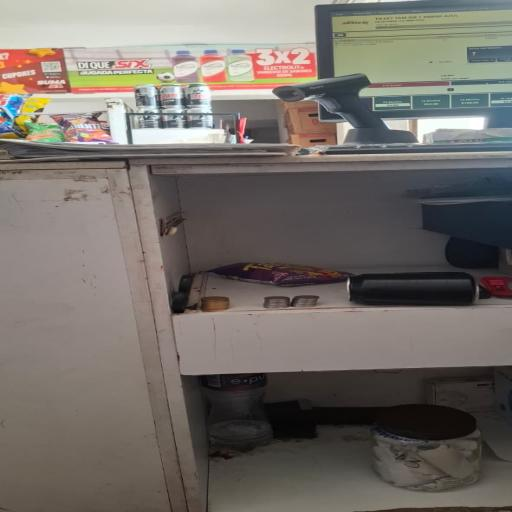LATA: (339, 268, 491, 311)
